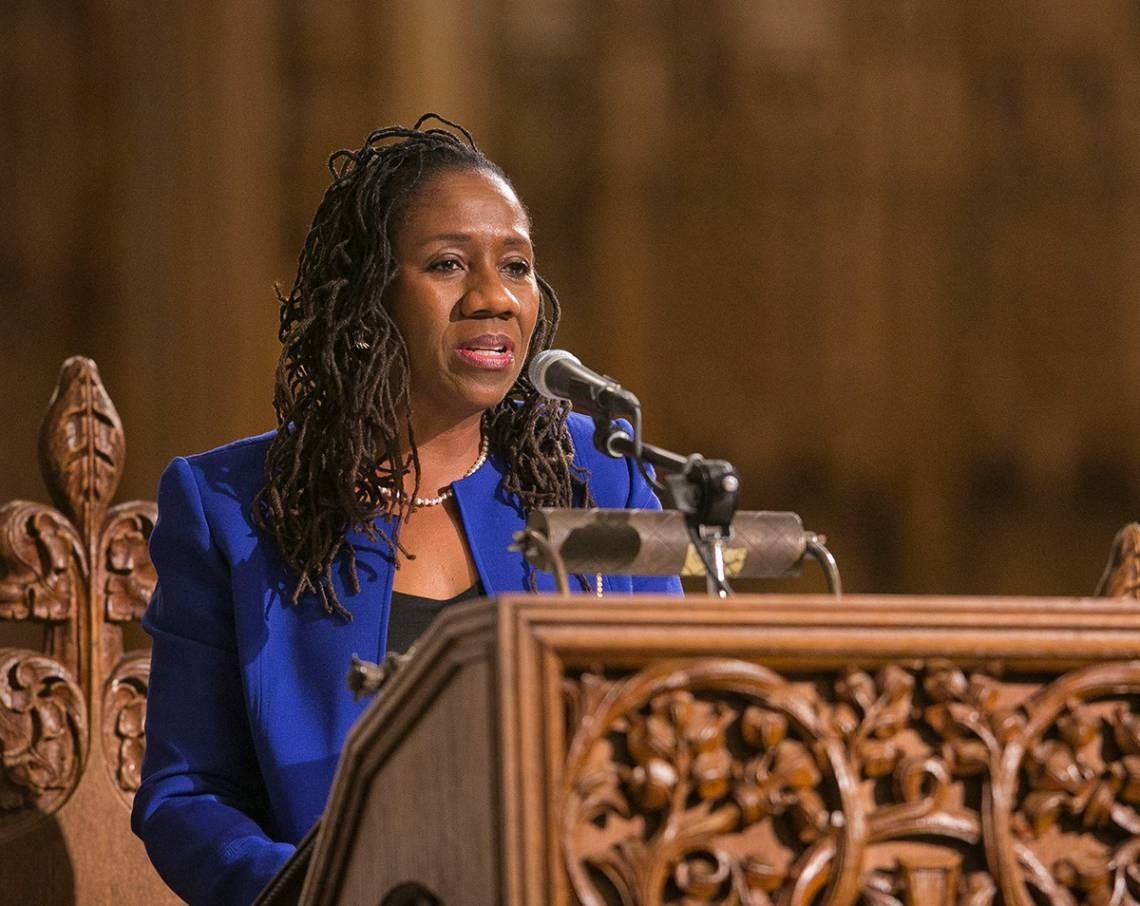face_no_mask: (297, 130, 547, 420)
